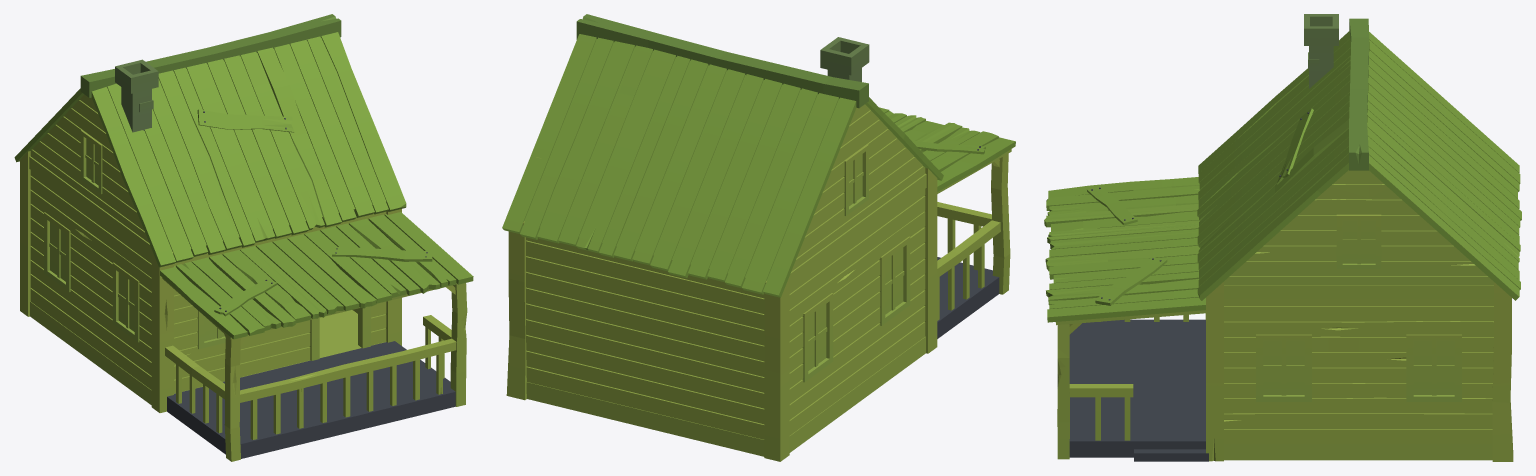
Rendered from House_01.fbx.
The picture shows the model from 3 angles, left to right: view 1: azimuth 30°, elevation 25°; view 2: azimuth 150°, elevation 25°; view 3: azimuth 270°, elevation 25°; orthographic projection. The views are drawn at different scales.
Parts seen in each view (by area): view 1: House_01; view 2: House_01; view 3: House_01.
Boxes of the visible parts, left/top/right/bottom form: House_01: left=14, top=14, right=473, bottom=461; House_01: left=502, top=14, right=1015, bottom=461; House_01: left=1044, top=14, right=1521, bottom=461.
Bounding box in the file's own units: 5.3 × 6.01 × 7.96.
